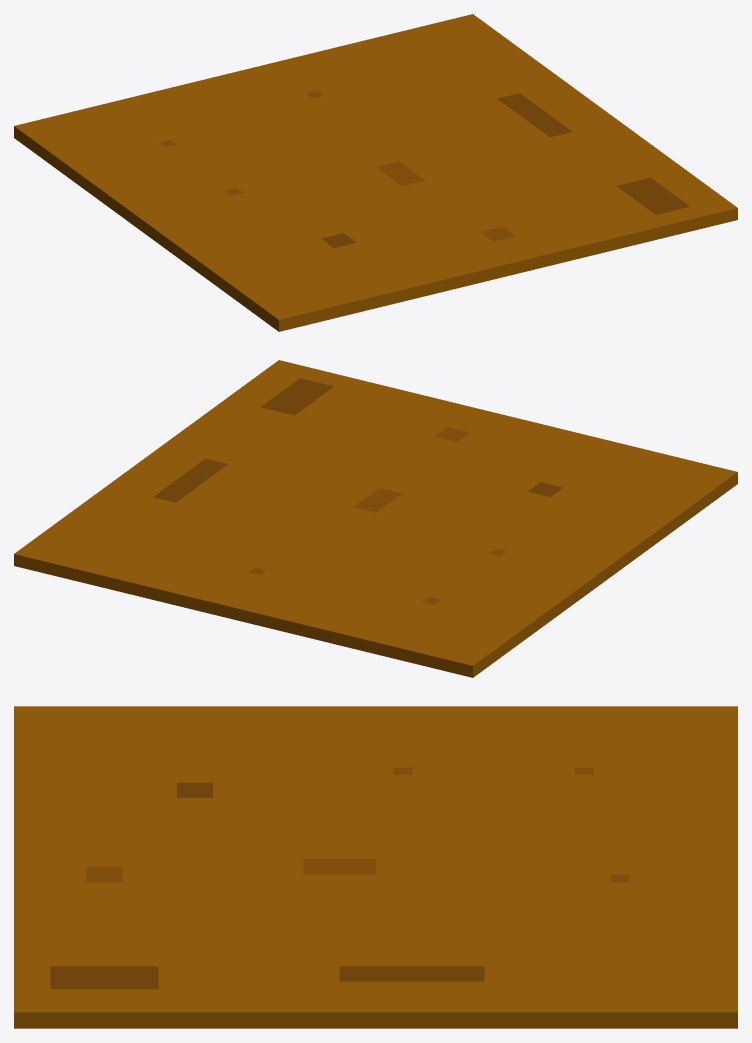
Rendered from floor_5.obj.
3 views of the same model, one above another, from view 1: azimuth 30°, elevation 25°; view 2: azimuth 150°, elevation 25°; view 3: azimuth 270°, elevation 25° (orthographic). The views are drawn at different scales.
Size of the model in its own units: 40 by 1 by 40.
1 material, 1 textured.
